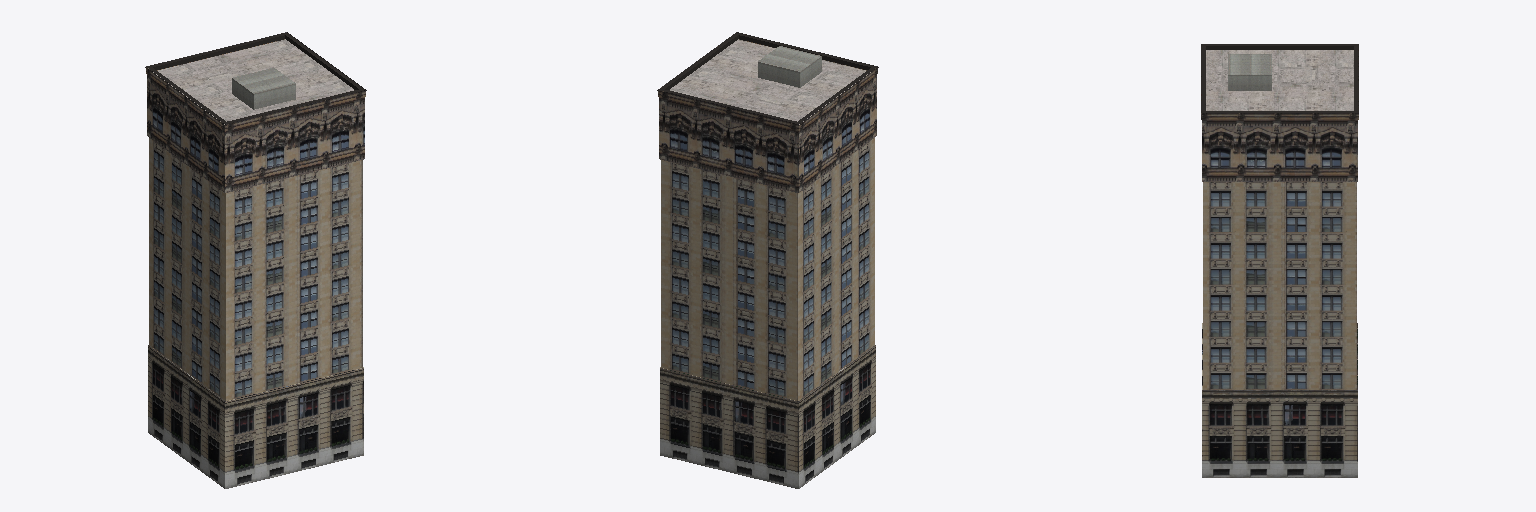
The picture shows the model from 3 angles: view 1: azimuth 30°, elevation 25°; view 2: azimuth 150°, elevation 25°; view 3: azimuth 270°, elevation 25°; orthographic projection.
Parts seen in each view (by area): view 1: building_24; view 2: building_24; view 3: building_24.
Boxes of the visible parts, x1,y1,x2,y2 form: building_24: [145, 32, 366, 488]; building_24: [657, 32, 878, 488]; building_24: [1201, 44, 1358, 477].
Size of the model in its own units: 57.95 by 147 by 56.05.
Materials: 1 (1 with a texture image).